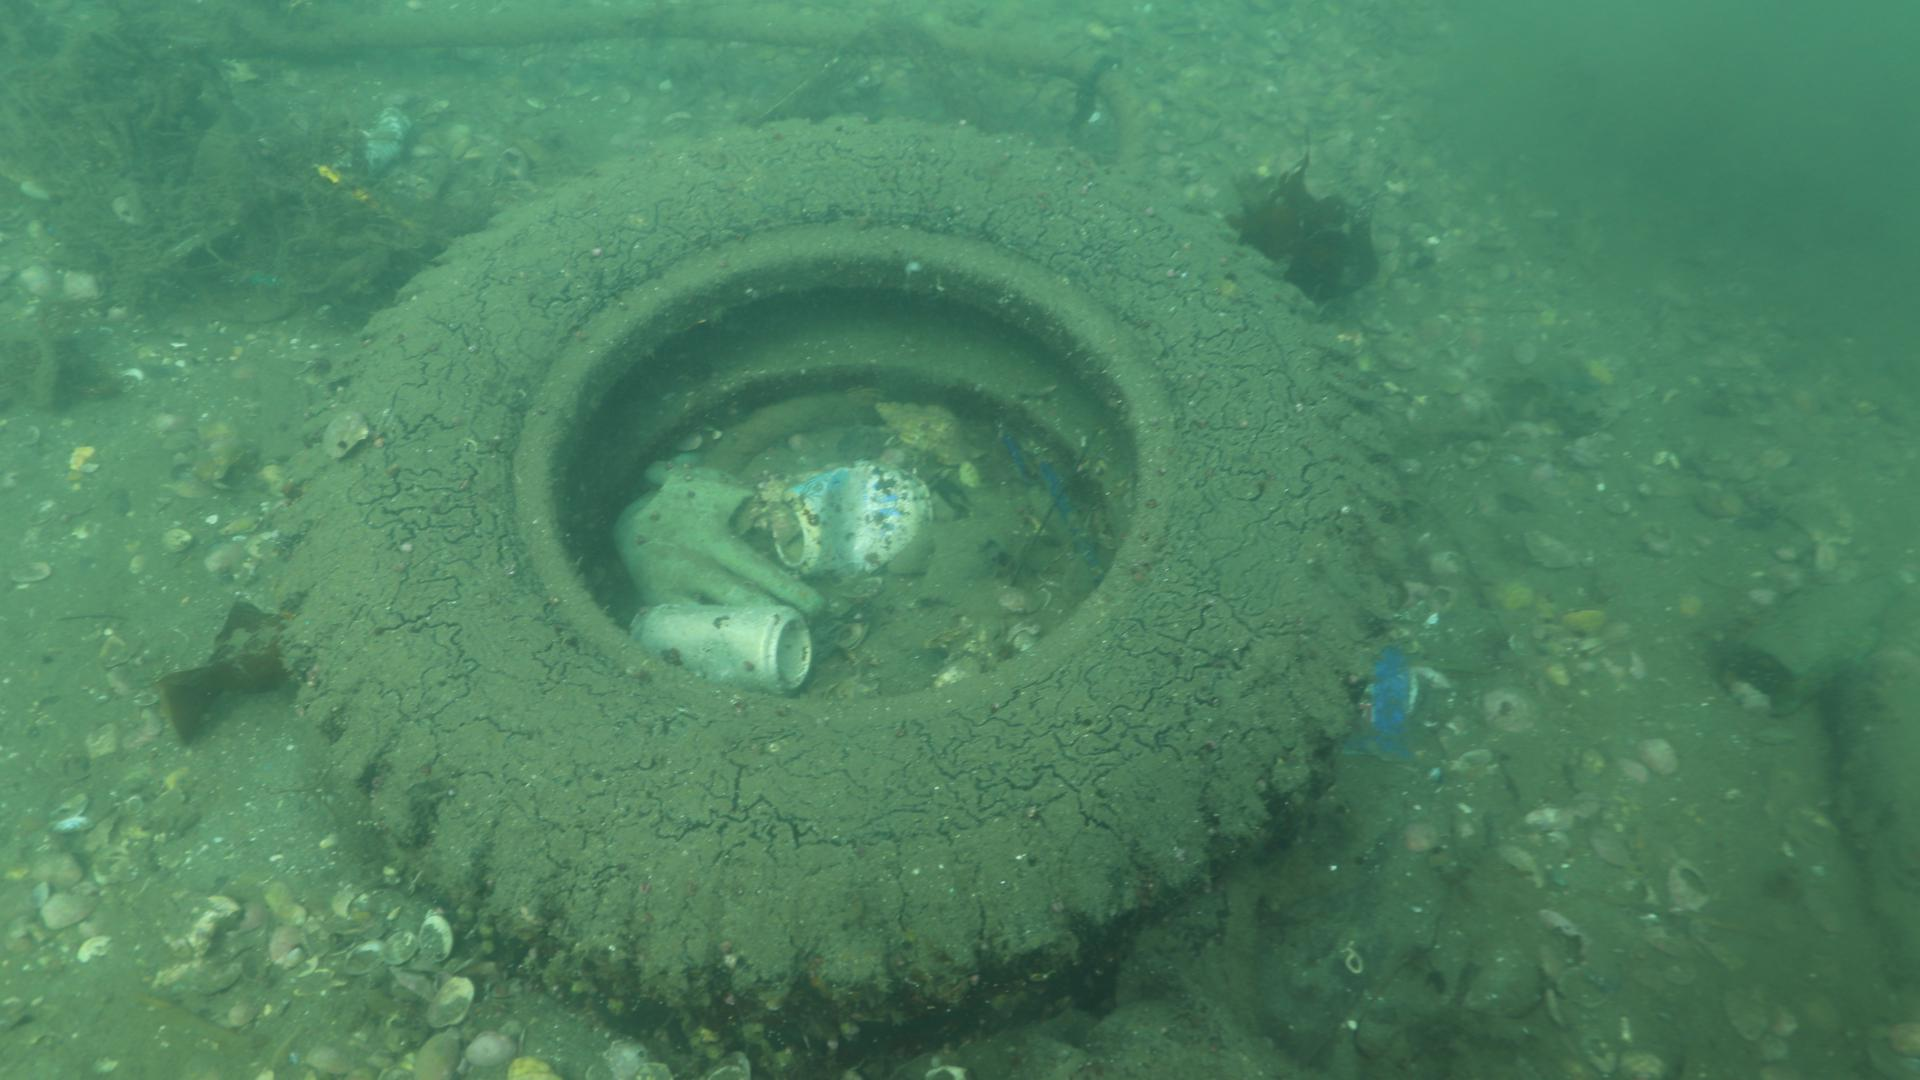rope: (222, 0, 1149, 166)
tire: (274, 115, 1410, 1062)
